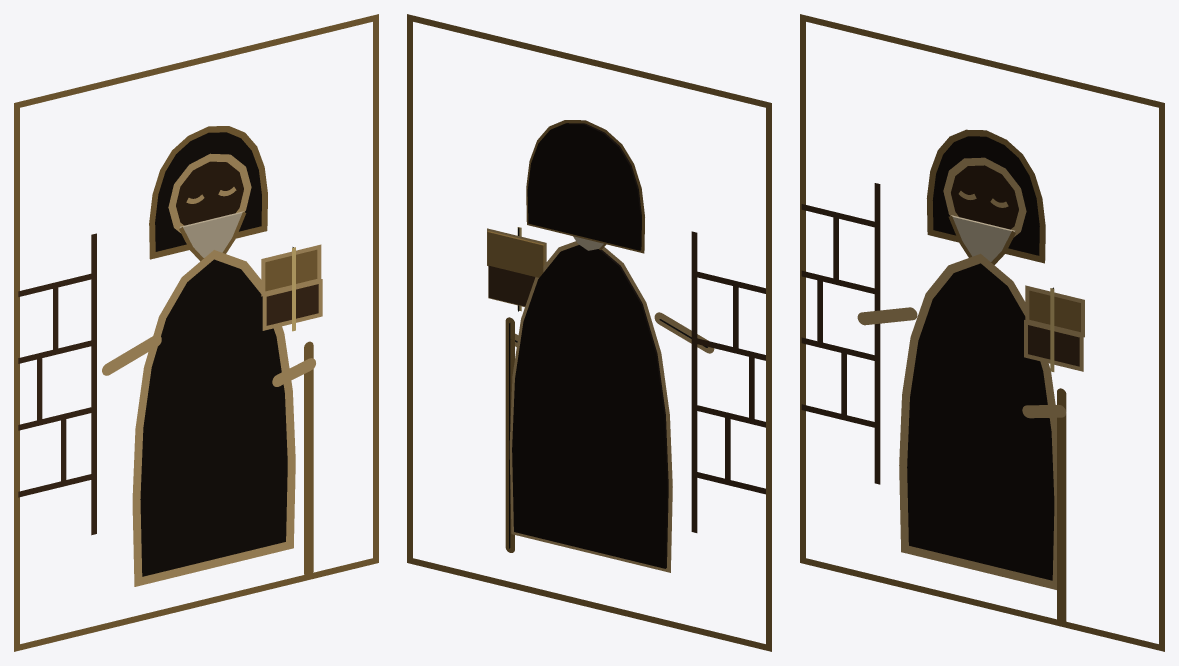
File: npc-brat-gevond.glb
3 renders of one model, left to right at view 1: azimuth 30°, elevation 25°; view 2: azimuth 150°, elevation 25°; view 3: azimuth 330°, elevation 25°, orthographic.
Parts seen in each view (by area): view 1: npc-brat-gevond; view 2: npc-brat-gevond; view 3: npc-brat-gevond.
Boxes of the visible parts, x1,y1,x2,y2 form: npc-brat-gevond: [14, 14, 378, 651]; npc-brat-gevond: [407, 14, 771, 651]; npc-brat-gevond: [800, 14, 1164, 651].
Bounding box in the file's own units: 1.14 × 1.64 × 0.0975.
